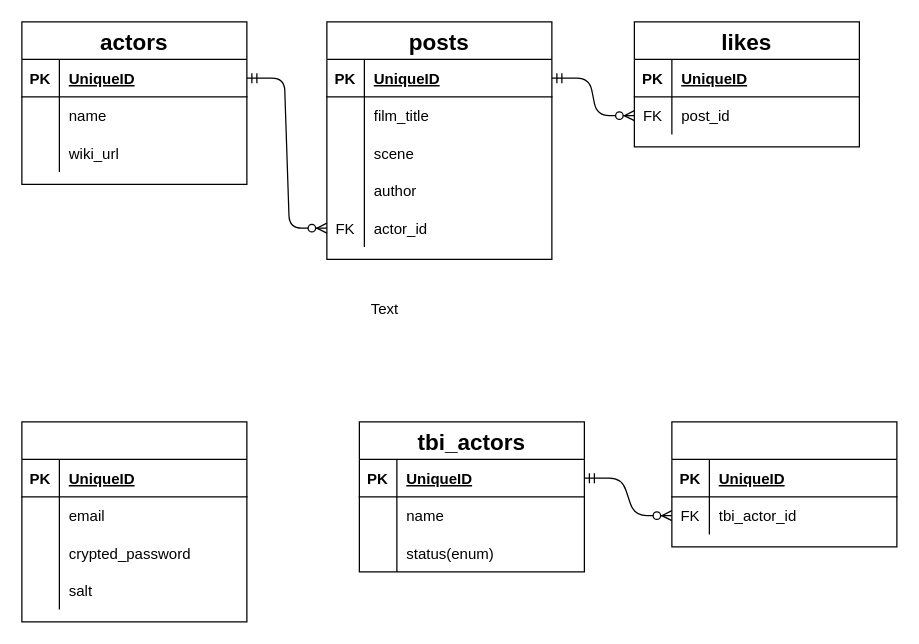
Some shapes in this 919 by 644 pixel diagram are drawn without their labels. Each missing label, with the box of its shape:
admin: (21, 421, 247, 622)
wishes: (671, 421, 897, 547)
